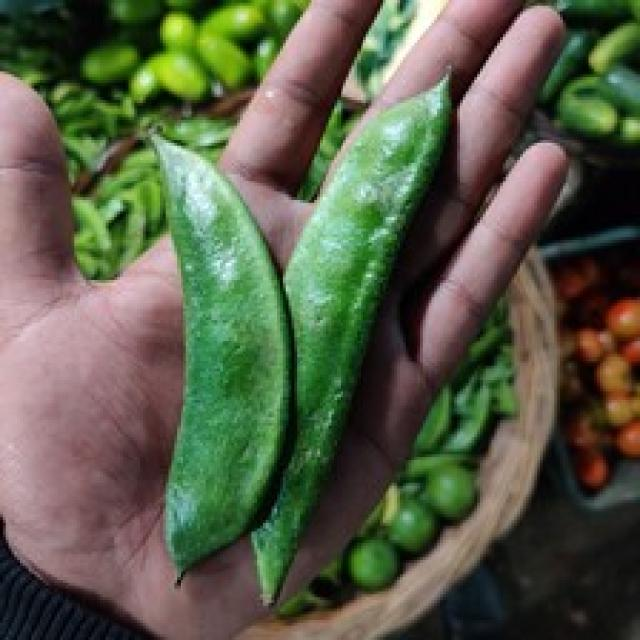Bean: (246, 63, 454, 608), (144, 127, 278, 562)
